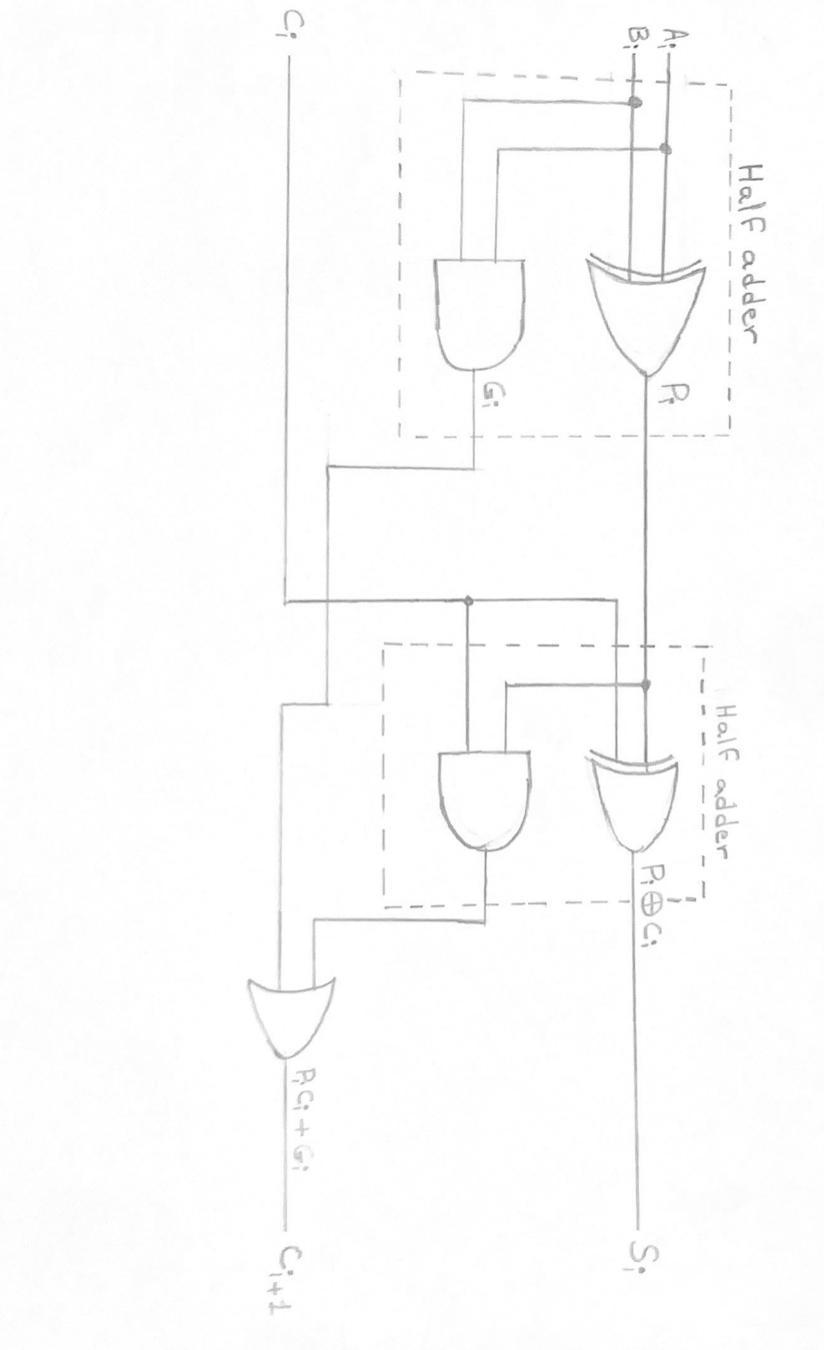AND: (418, 240, 538, 384), (422, 735, 546, 860)
OR: (237, 970, 360, 1071)
XOR: (567, 242, 719, 392), (565, 738, 699, 862)
